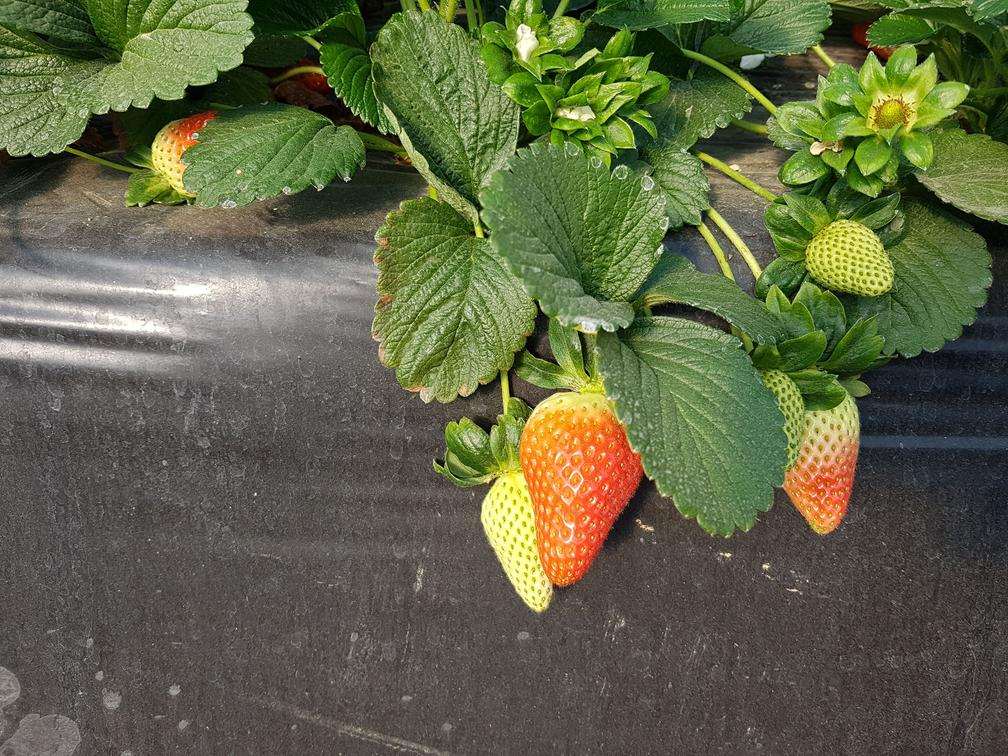Ripe: (522, 389, 659, 588)
Unripe: (481, 479, 559, 612), (804, 220, 903, 302)
